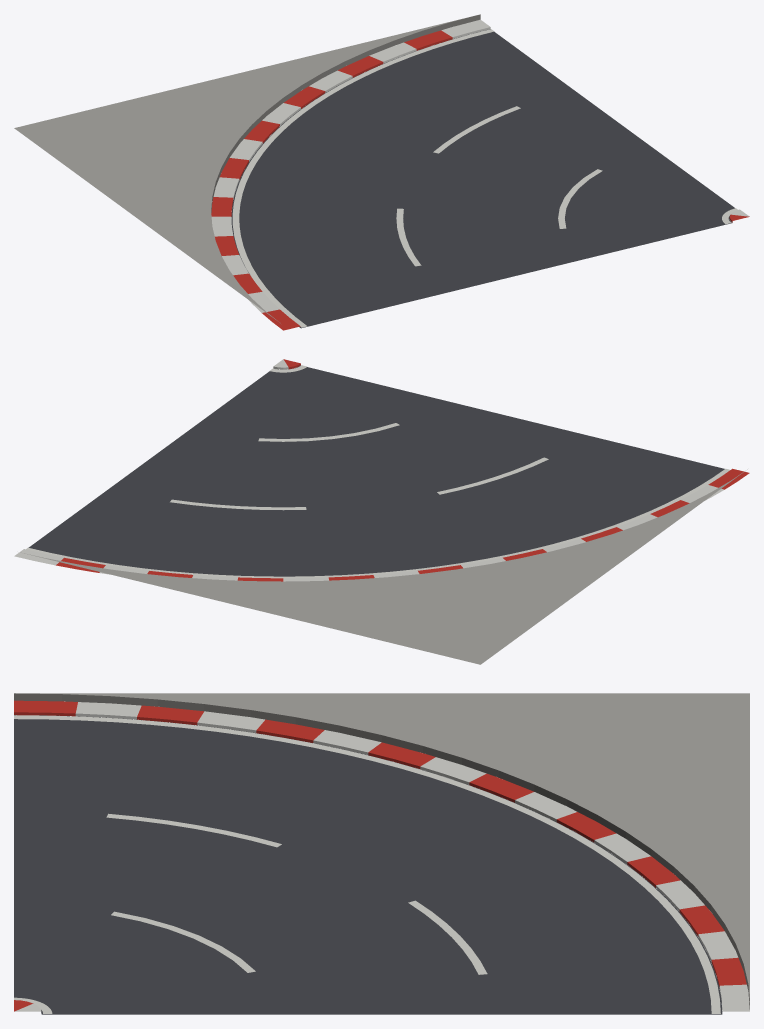
Rendered from road_corner.glb.
The picture shows the model from 3 angles, top to bottom: view 1: azimuth 30°, elevation 25°; view 2: azimuth 150°, elevation 25°; view 3: azimuth 270°, elevation 25°; orthographic projection. The views are drawn at different scales.
Visible parts, largest first — view 1: road_corner; view 2: road_corner; view 3: road_corner.
Part boxes in pixels (x1,y1,x2,y2): road_corner: [14, 14, 749, 330]; road_corner: [14, 359, 749, 664]; road_corner: [14, 693, 749, 1014].
Size of the model in its own units: 12 by 0.18 by 12.
